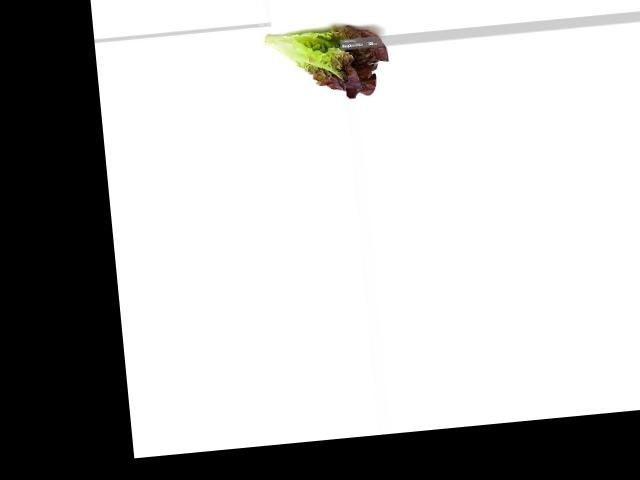lettuce: (258, 15, 394, 107)
